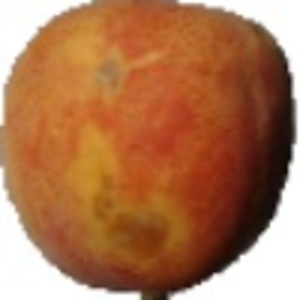pêssego: (1, 1, 297, 300)
